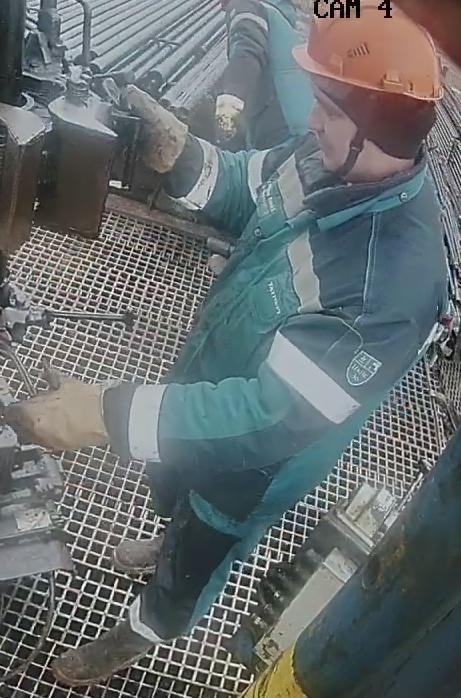gloves: (5, 353, 145, 459), (118, 84, 203, 180)
helmet: (290, 0, 445, 122)
vest: (196, 143, 451, 519), (222, 0, 317, 146)
